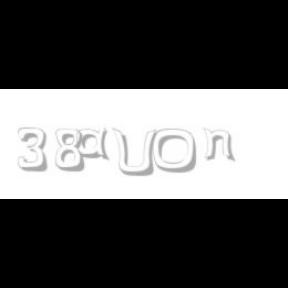3: (17, 128, 48, 172)
8: (55, 128, 84, 172)
O: (152, 128, 198, 174)
U: (112, 128, 156, 178)
a: (76, 128, 114, 160)
n: (202, 128, 236, 162)
